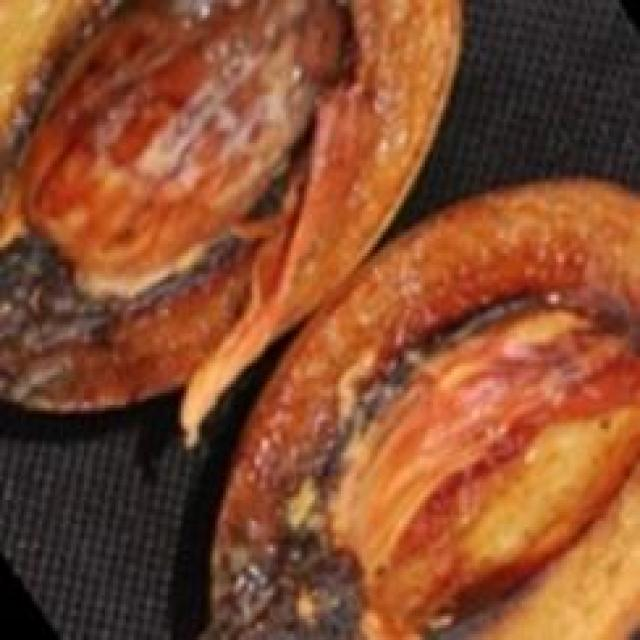damaged: (207, 179, 637, 637)
